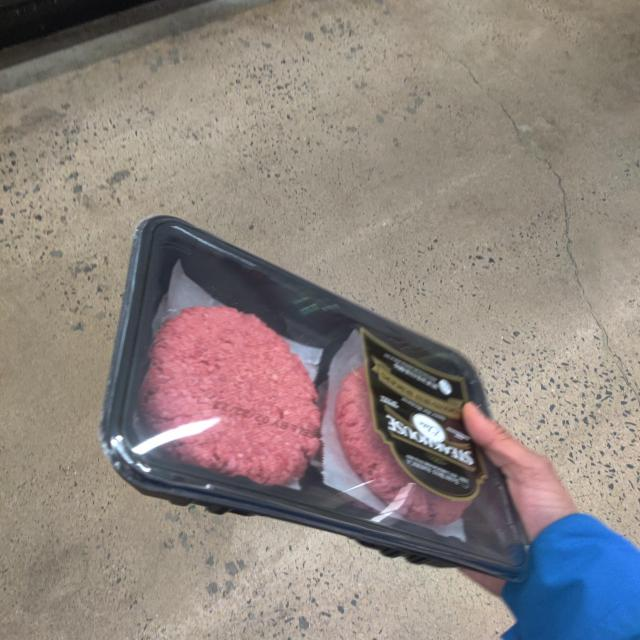Meat: (94, 192, 558, 595)
